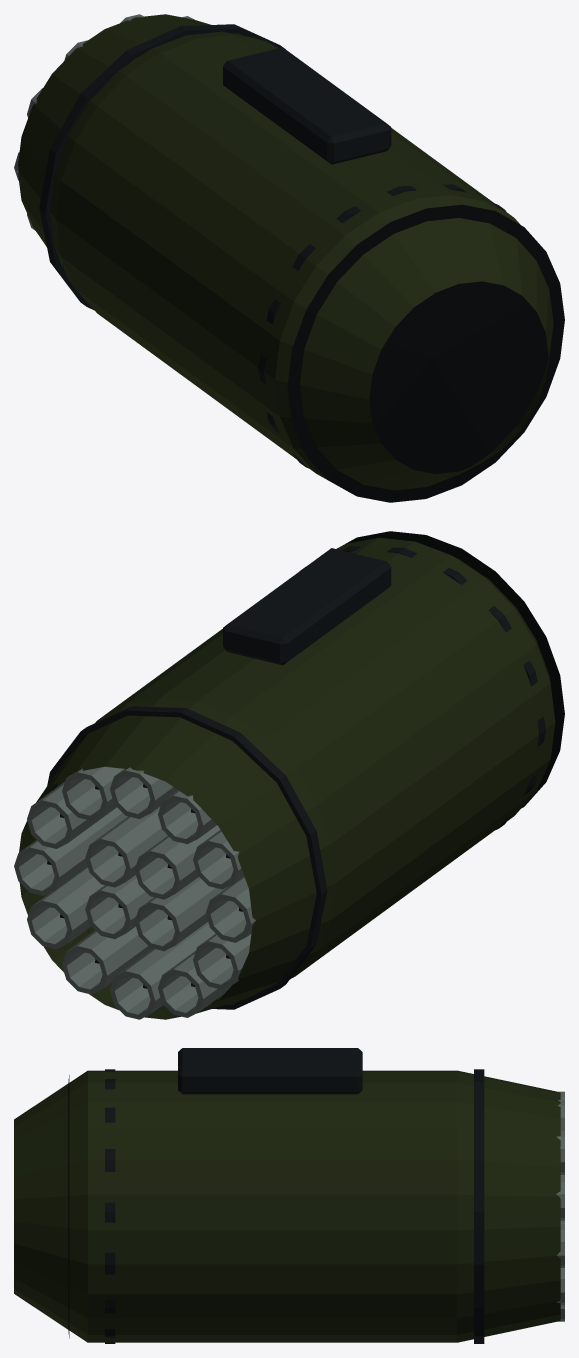
Rendered from Rocket57Sixteen__Full.obj.
3 views of the same model, one above another, from view 1: azimuth 30°, elevation 25°; view 2: azimuth 150°, elevation 25°; view 3: azimuth 270°, elevation 25° (orthographic). The views are drawn at different scales.
Parts seen in each view (by area): view 1: Pod_aerodynamic_outer_shell, Rear_bulkhead, Mount_lug, Identification_band.001, Identification_band; view 2: Pod_aerodynamic_outer_shell, Mount_lug, Identification_band.001, Rear_bulkhead, Tube_05, Tube_14, Tube_03, Tube_01, Tube_15, Tube_16, Tube_02, Tube_04 (+9 smaller); view 3: Pod_aerodynamic_outer_shell, Mount_lug, Identification_band.001, Identification_band, Rear_bulkhead.
Boxes of the visible parts, x1,y1,x2,y2 form: Pod_aerodynamic_outer_shell: (18,14,553,490); Rear_bulkhead: (287,204,564,502); Mount_lug: (223,47,391,164); Identification_band.001: (39,24,285,310); Identification_band: (258,184,506,468); Pod_aerodynamic_outer_shell: (19,537,555,1019); Mount_lug: (223,548,391,665); Identification_band.001: (47,706,327,1009); Rear_bulkhead: (337,531,564,807); Tube_05: (14,807,127,895); Tube_14: (110,922,215,1019); Tube_03: (134,877,227,951); Tube_01: (85,807,167,887); Tube_15: (62,926,152,994); Tube_16: (27,866,104,949); Tube_02: (134,825,220,899); Tube_04: (85,875,153,938); Pod_aerodynamic_outer_shell: (14,1070,560,1342); Mount_lug: (178,1048,362,1094); Identification_band.001: (474,1069,484,1343); Identification_band: (105,1069,115,1343); Rear_bulkhead: (68,1075,69,1338).
Size of the model in its own units: 0.7444 by 0.8122 by 1.49.
